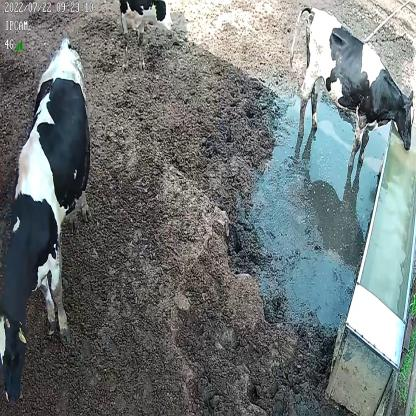cow: (0, 35, 93, 401), (288, 1, 414, 181)
